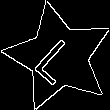L_NE: (30, 28, 87, 86)
